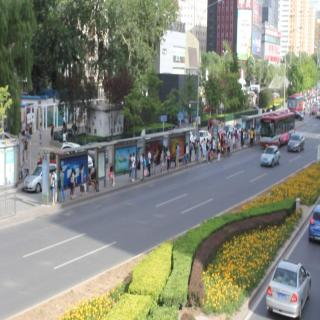BigCar: (260, 112, 296, 148), (286, 92, 310, 120)
Car: (262, 252, 312, 314), (39, 144, 80, 179), (22, 162, 61, 190), (258, 141, 283, 171), (289, 134, 304, 151)
